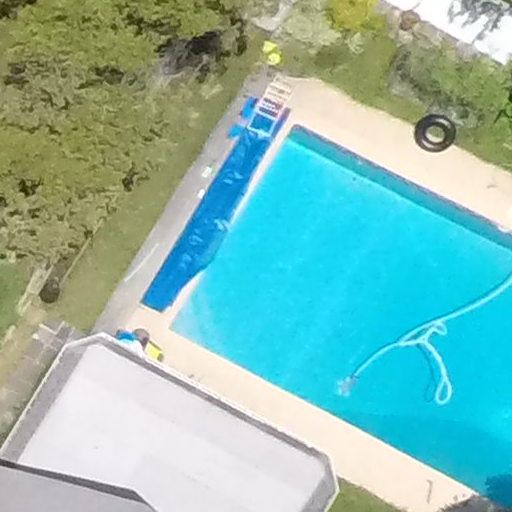pool: (156, 136, 512, 471)
tarp: (125, 105, 296, 312)
